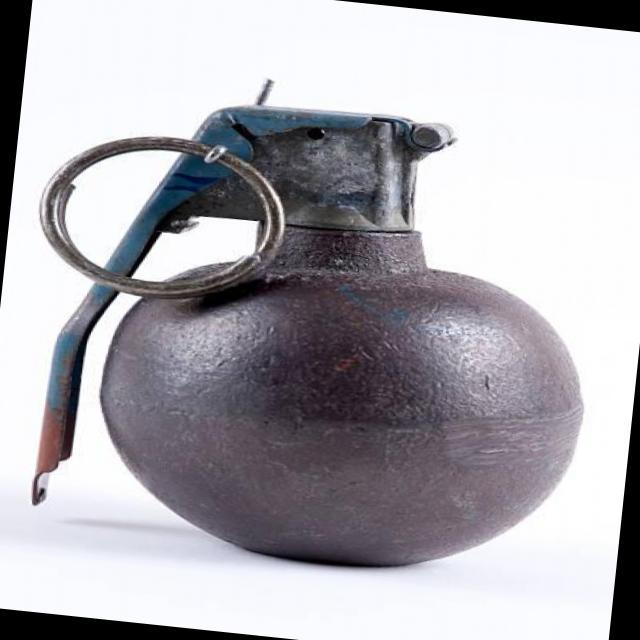grenade: (0, 64, 625, 600)
